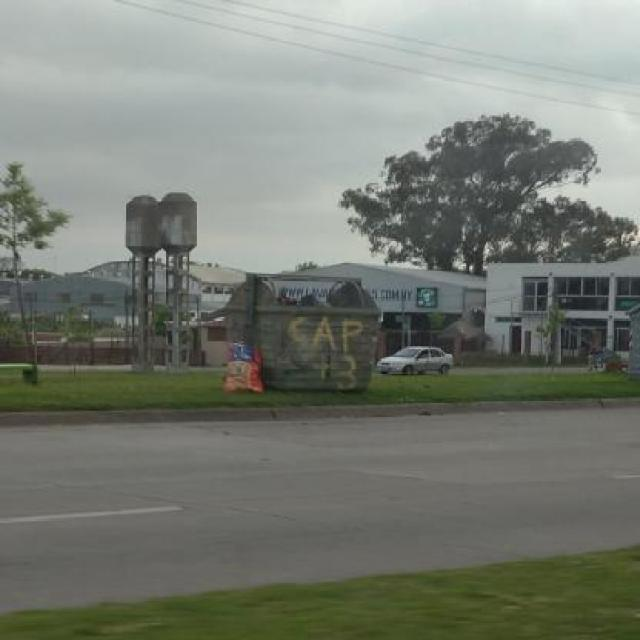garbage: (236, 263, 357, 320), (195, 334, 280, 401)
